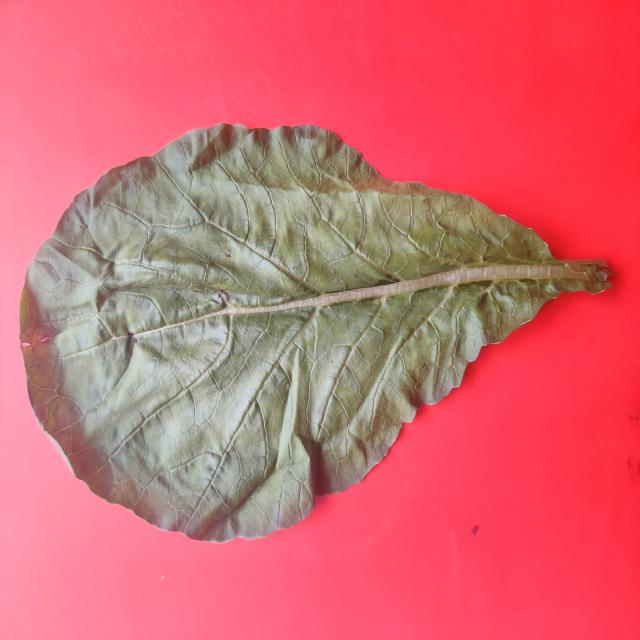wilt: (21, 125, 566, 542)
